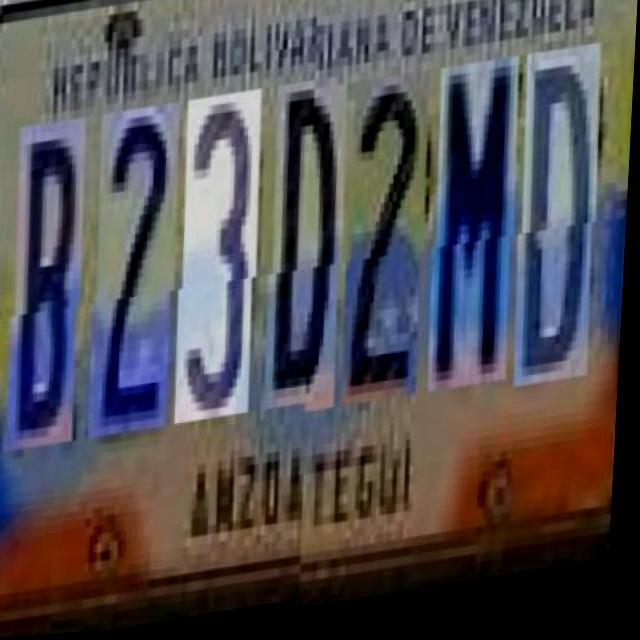2: (89, 109, 185, 442), (342, 76, 434, 409)
3: (175, 98, 267, 432)
b: (8, 121, 92, 453)
d: (514, 55, 607, 397), (264, 88, 354, 421)
m: (427, 65, 525, 398)
